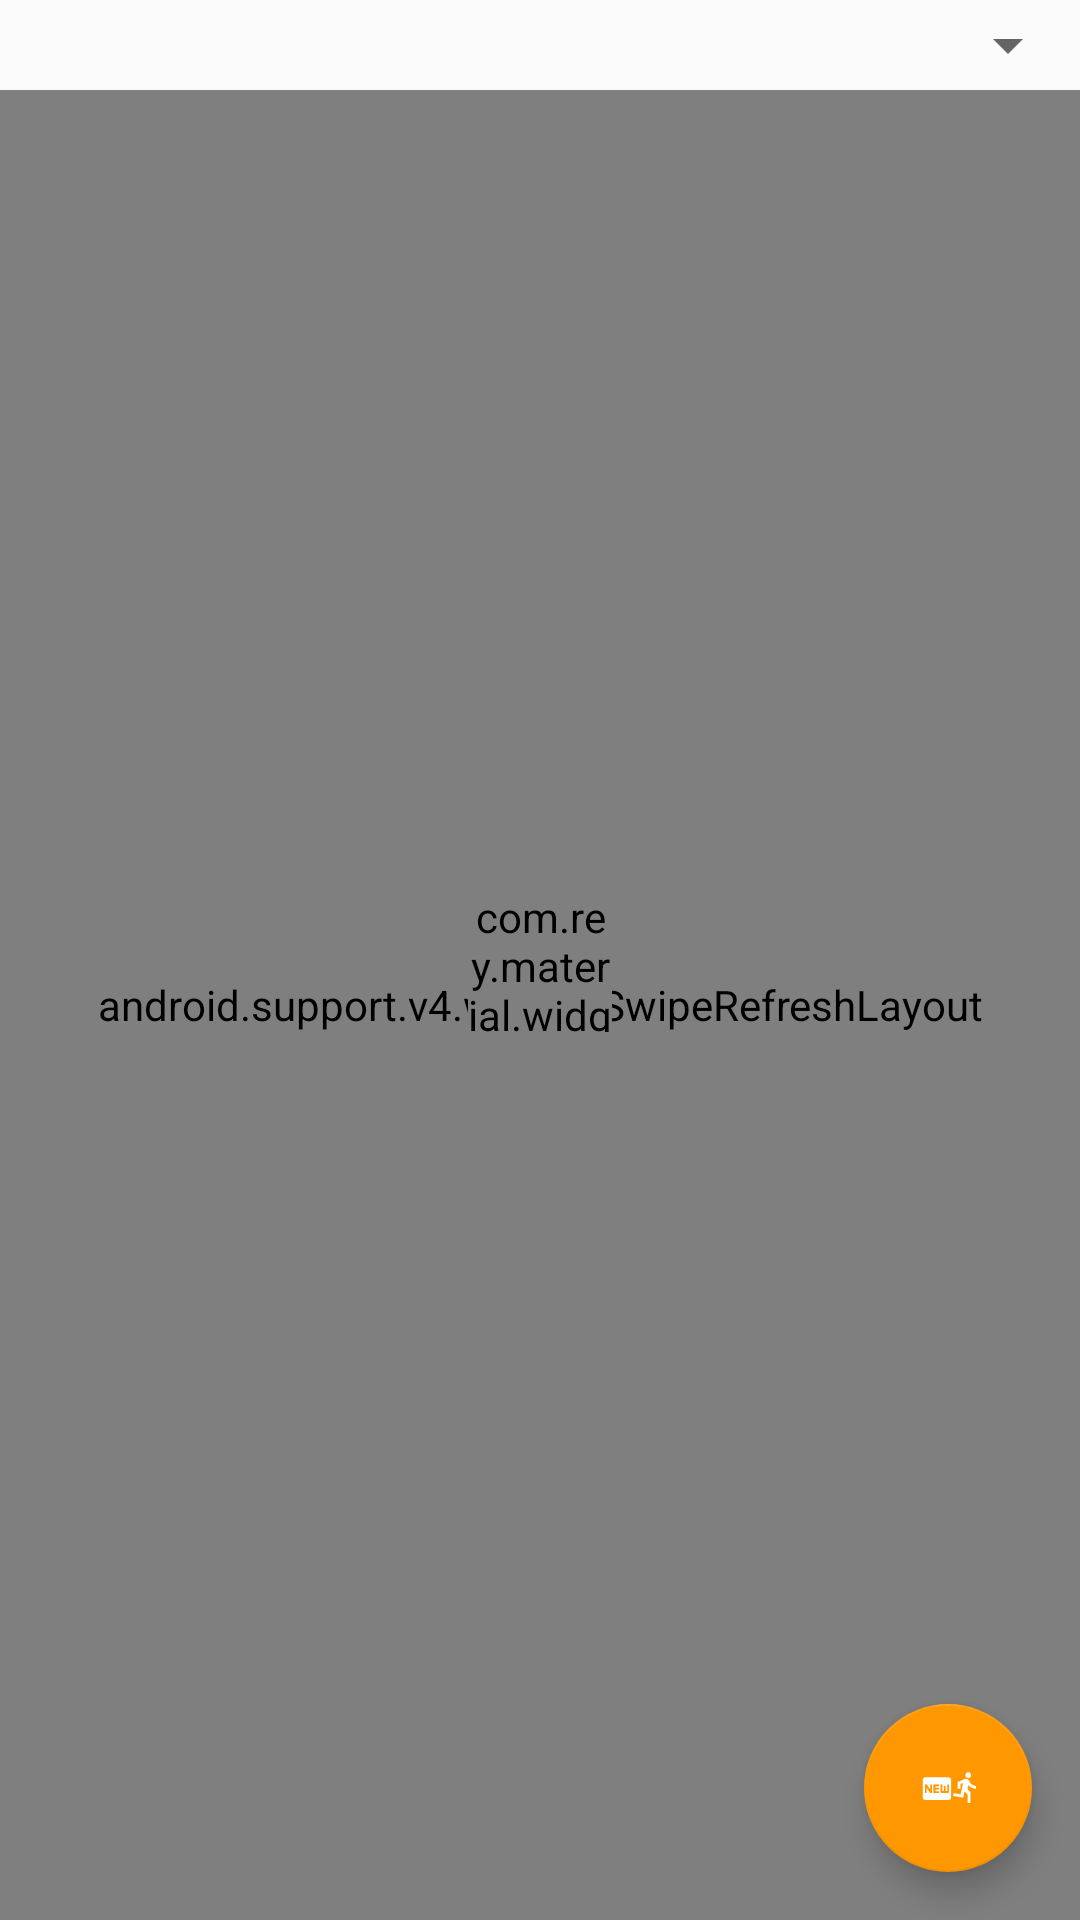

Screen size 1080px x 1920px. Icon name, then its box in pixels as BBox(x1, y1, x2, y2):
run: BBox(864, 1704, 1032, 1872)
